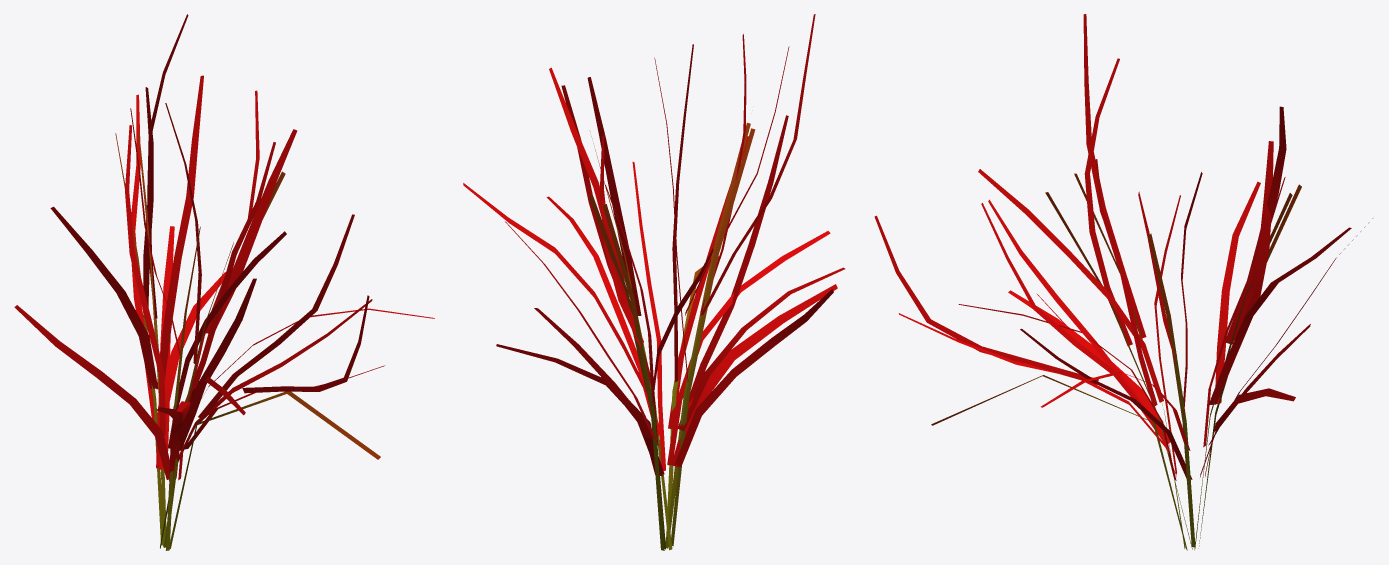
Rendered from Var17_LOD2.fbx.
3 renders of one model, left to right at view 1: azimuth 30°, elevation 25°; view 2: azimuth 150°, elevation 25°; view 3: azimuth 270°, elevation 25°, orthographic. The views are drawn at different scales.
Parts seen in each view (by area): view 1: _pjtu_Var17_LOD2; view 2: _pjtu_Var17_LOD2; view 3: _pjtu_Var17_LOD2.
Part boxes in pixels (x1,y1,x2,y2): _pjtu_Var17_LOD2: (14,14,434,550); _pjtu_Var17_LOD2: (463,14,845,550); _pjtu_Var17_LOD2: (874,14,1372,550).
Size of the model in its own units: 11 by 15.04 by 13.84.
